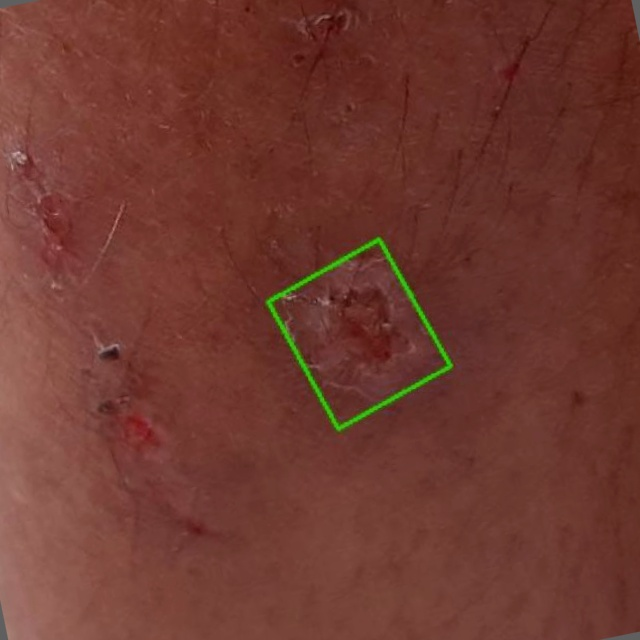Eczema: (268, 239, 451, 429)
